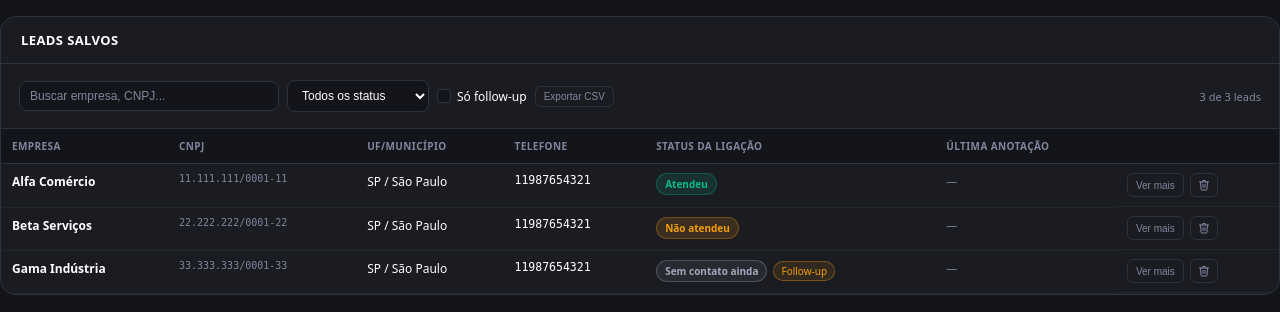
it: SavedLeadsTable - filtros e contador › filtra por texto (cnpj)
Type "22.222.222" into the field with placeholder "Buscar empresa, CNPJ..." at (149, 96), box left=19, top=81, right=279, bottom=111
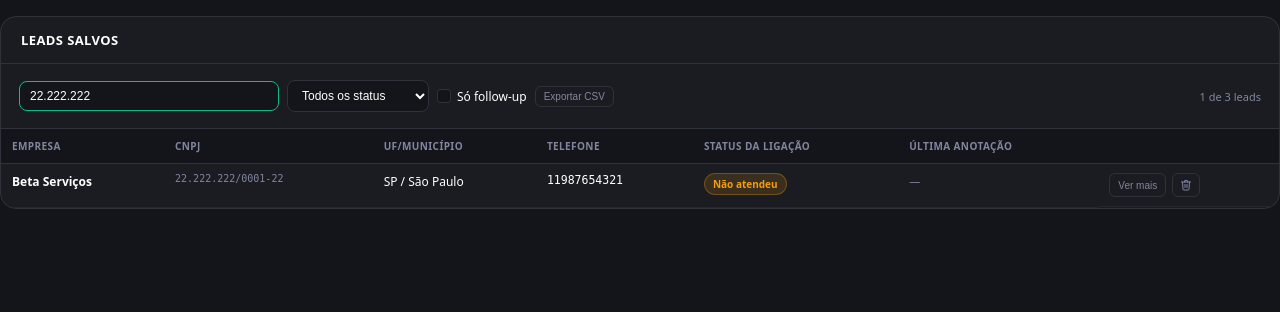
Expected: the text "Beta Serviços" is shown, left=12, top=173, right=92, bottom=190
Expected: the text "Alfa Comércio" is gone
